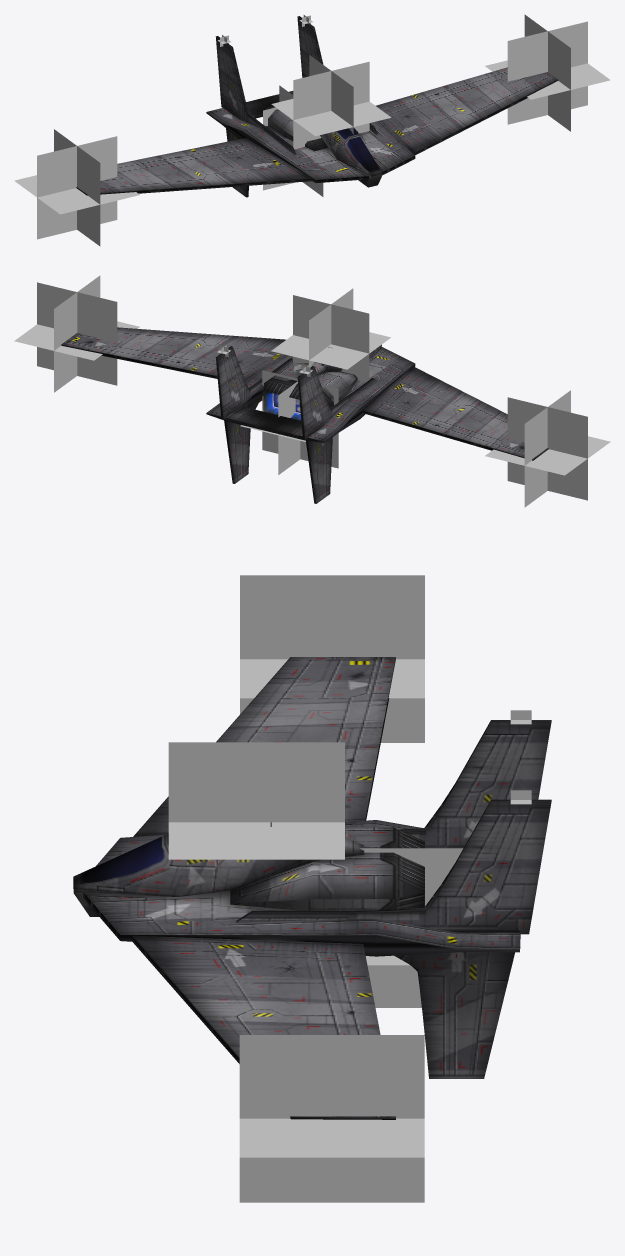
The model's file is ancestor.obj.
3 renders of one model, top to bottom at view 1: azimuth 30°, elevation 25°; view 2: azimuth 150°, elevation 25°; view 3: azimuth 270°, elevation 25°, orthographic. The views are drawn at different scales.
Size of the model in its own units: 57.34 by 14.72 by 21.56.
